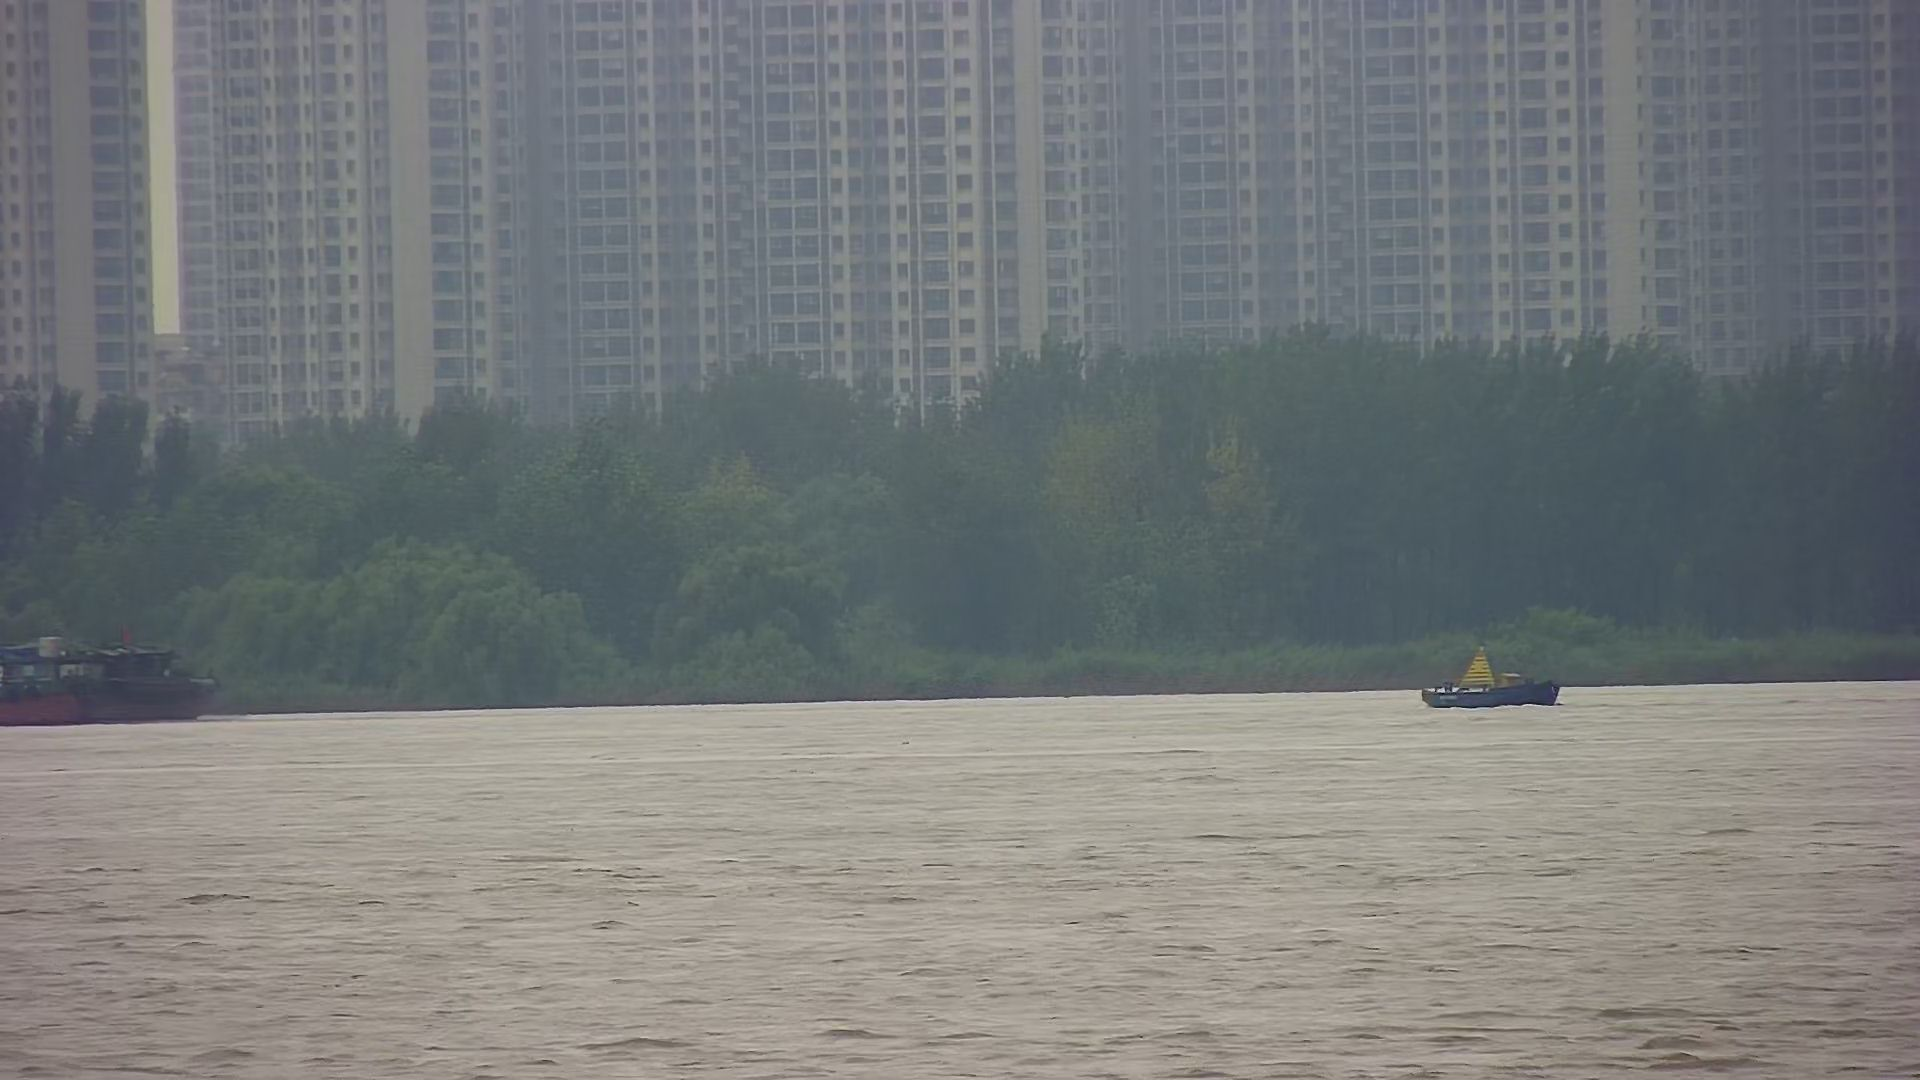boat: (1428, 642, 1557, 713)
ship: (1, 617, 229, 727)
